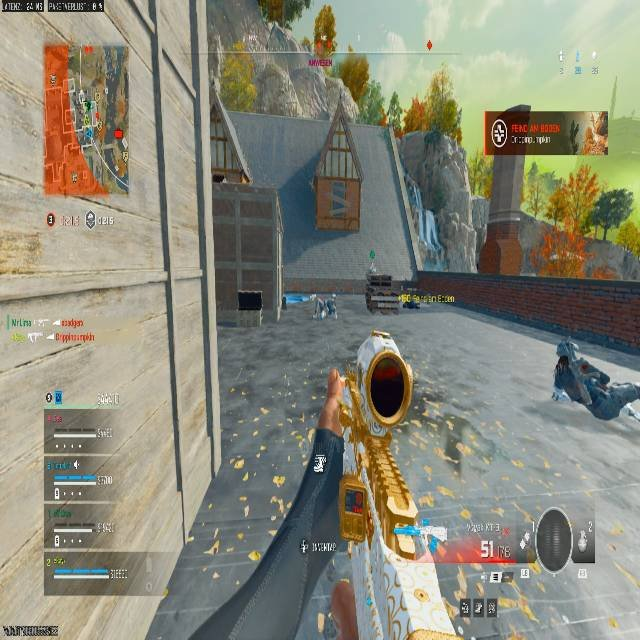player: (326, 295, 336, 317)
